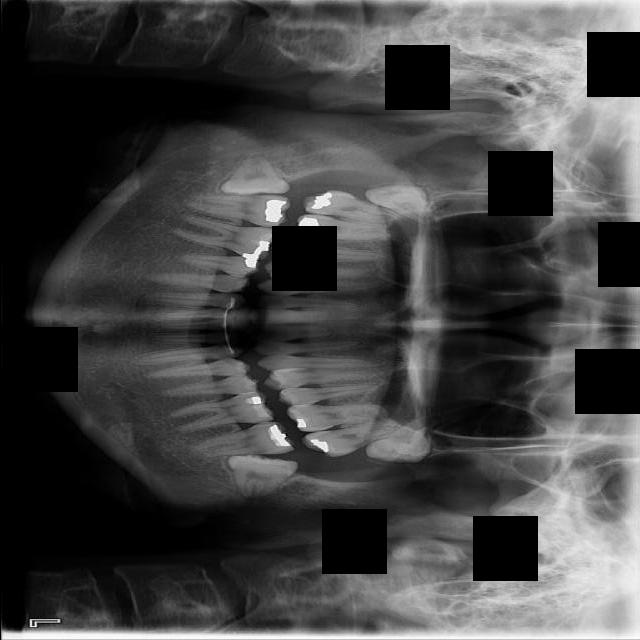3M ESPE Implant: (359, 168, 444, 231)
52: (246, 408, 302, 465), (298, 420, 359, 466), (232, 216, 283, 270), (230, 383, 277, 433), (246, 187, 293, 234), (300, 185, 357, 222), (285, 396, 330, 441), (290, 213, 333, 244), (221, 255, 262, 279)
73: (83, 570, 99, 582)
BioHorizons Implant: (298, 418, 402, 463)
BioLife Implant: (362, 405, 455, 483)
Biomet 3i Implant: (223, 452, 299, 504)
Blue Sky Bio Implant: (190, 419, 297, 460)
Caries: (300, 185, 406, 228)
Implant: (186, 186, 293, 230)
Keystone Dental Implant: (220, 153, 289, 196)
